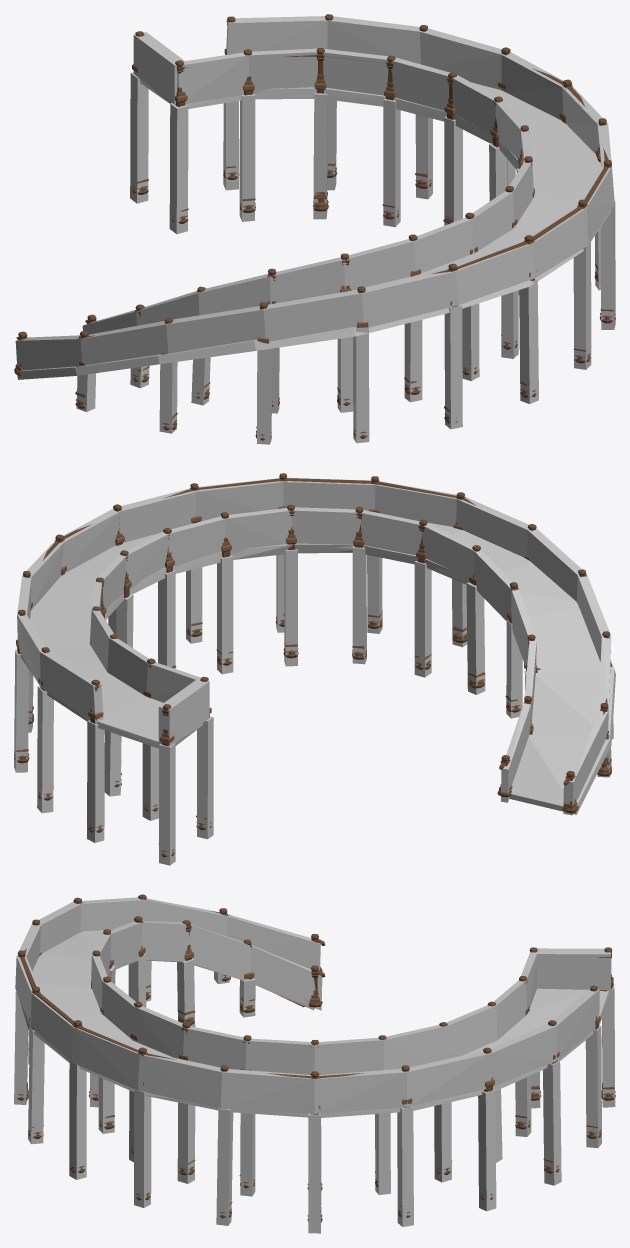
The model's file is SM_Bld_Planetarium_01_Ramp_01.fbx.
3 renders of one model, top to bottom at view 1: azimuth 30°, elevation 25°; view 2: azimuth 150°, elevation 25°; view 3: azimuth 270°, elevation 25°, orthographic. The views are drawn at different scales.
Visible parts, largest first — view 1: SM_Bld_Planetarium_01_Ramp_01_ConvexHulls, SM_Bld_Planetarium_01_Ramp_01; view 2: SM_Bld_Planetarium_01_Ramp_01_ConvexHulls, SM_Bld_Planetarium_01_Ramp_01; view 3: SM_Bld_Planetarium_01_Ramp_01_ConvexHulls, SM_Bld_Planetarium_01_Ramp_01.
Part boxes in pixels (box(x1,y1,x2,y2)): SM_Bld_Planetarium_01_Ramp_01_ConvexHulls: box(15, 16, 615, 444); SM_Bld_Planetarium_01_Ramp_01: box(14, 14, 615, 440); SM_Bld_Planetarium_01_Ramp_01_ConvexHulls: box(14, 477, 615, 865); SM_Bld_Planetarium_01_Ramp_01: box(14, 473, 612, 857); SM_Bld_Planetarium_01_Ramp_01_ConvexHulls: box(14, 897, 615, 1233); SM_Bld_Planetarium_01_Ramp_01: box(17, 894, 615, 1222).
Bounding box in the file's own units: 1521 × 1515 × 451.
Materials: 2 (1 with a texture image).
